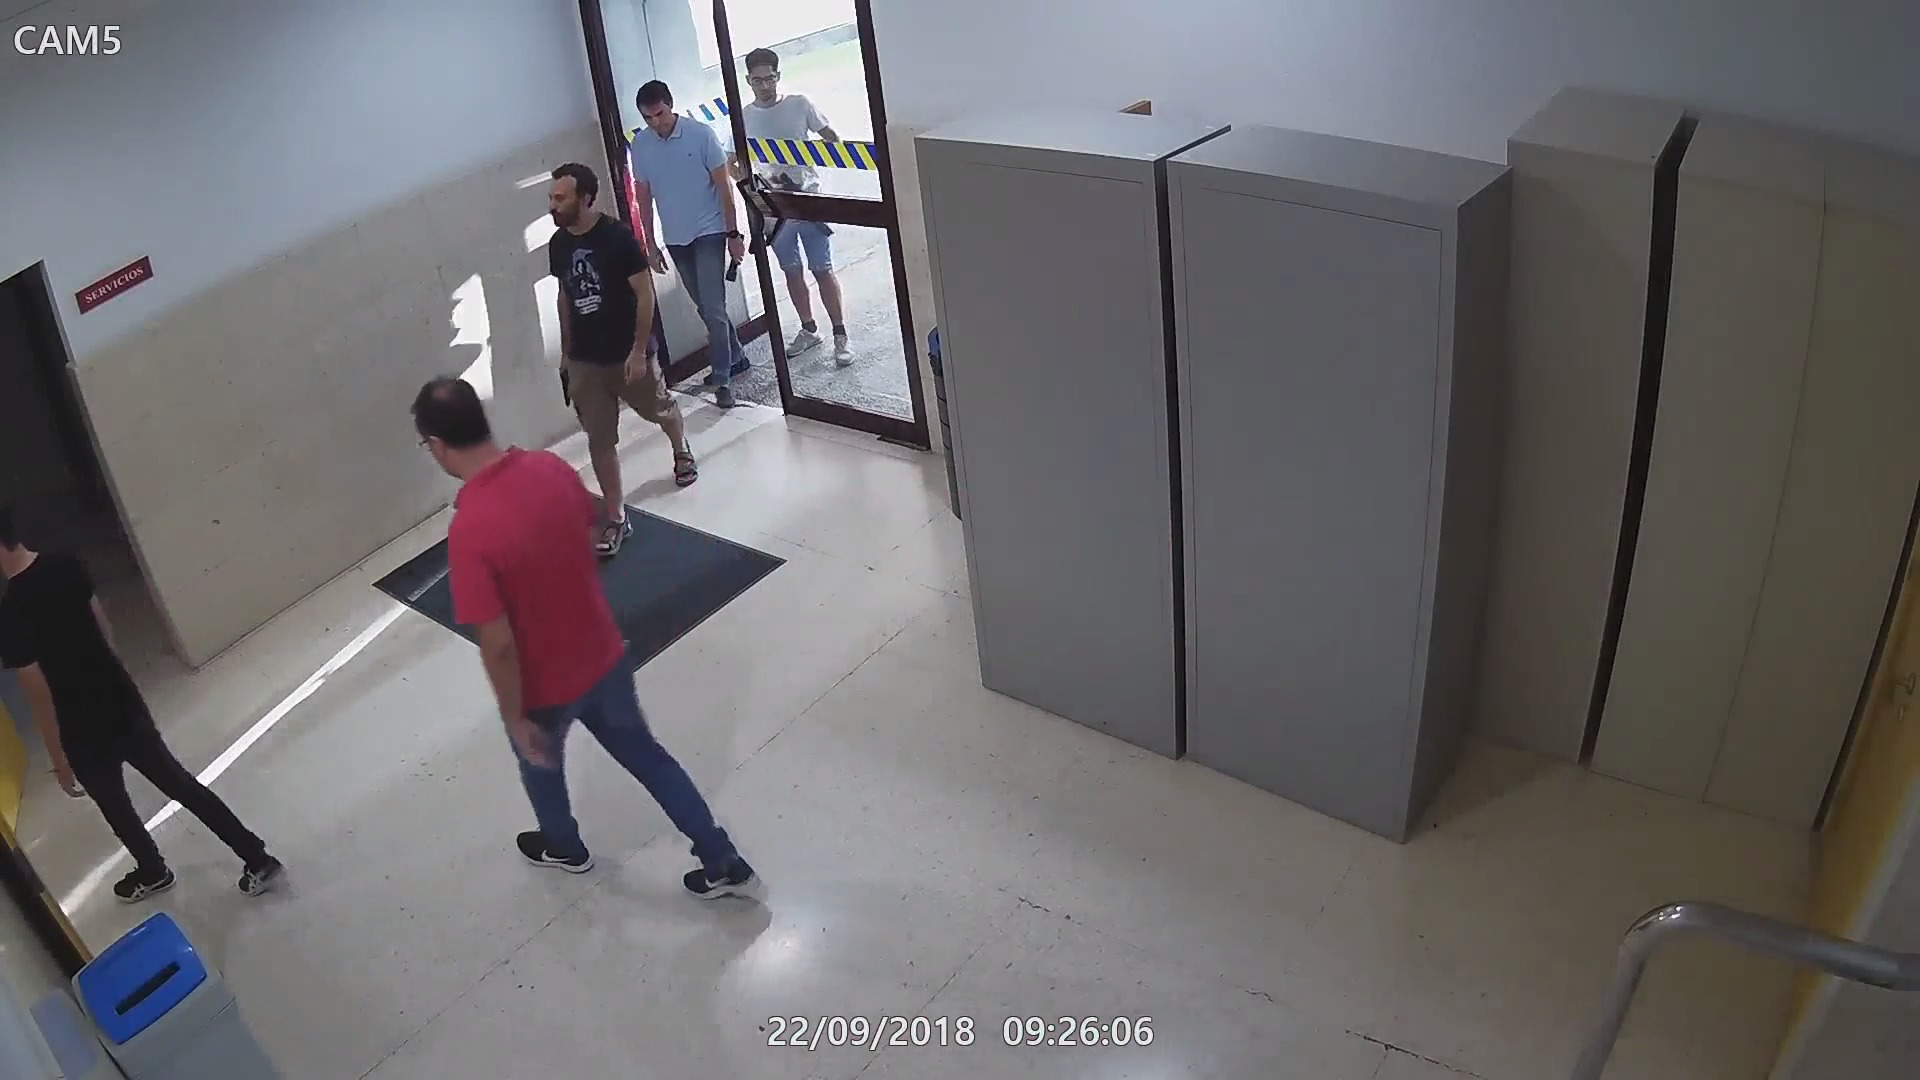Handgun: (553, 361, 574, 409)
Short_rifle: (757, 162, 833, 240)
